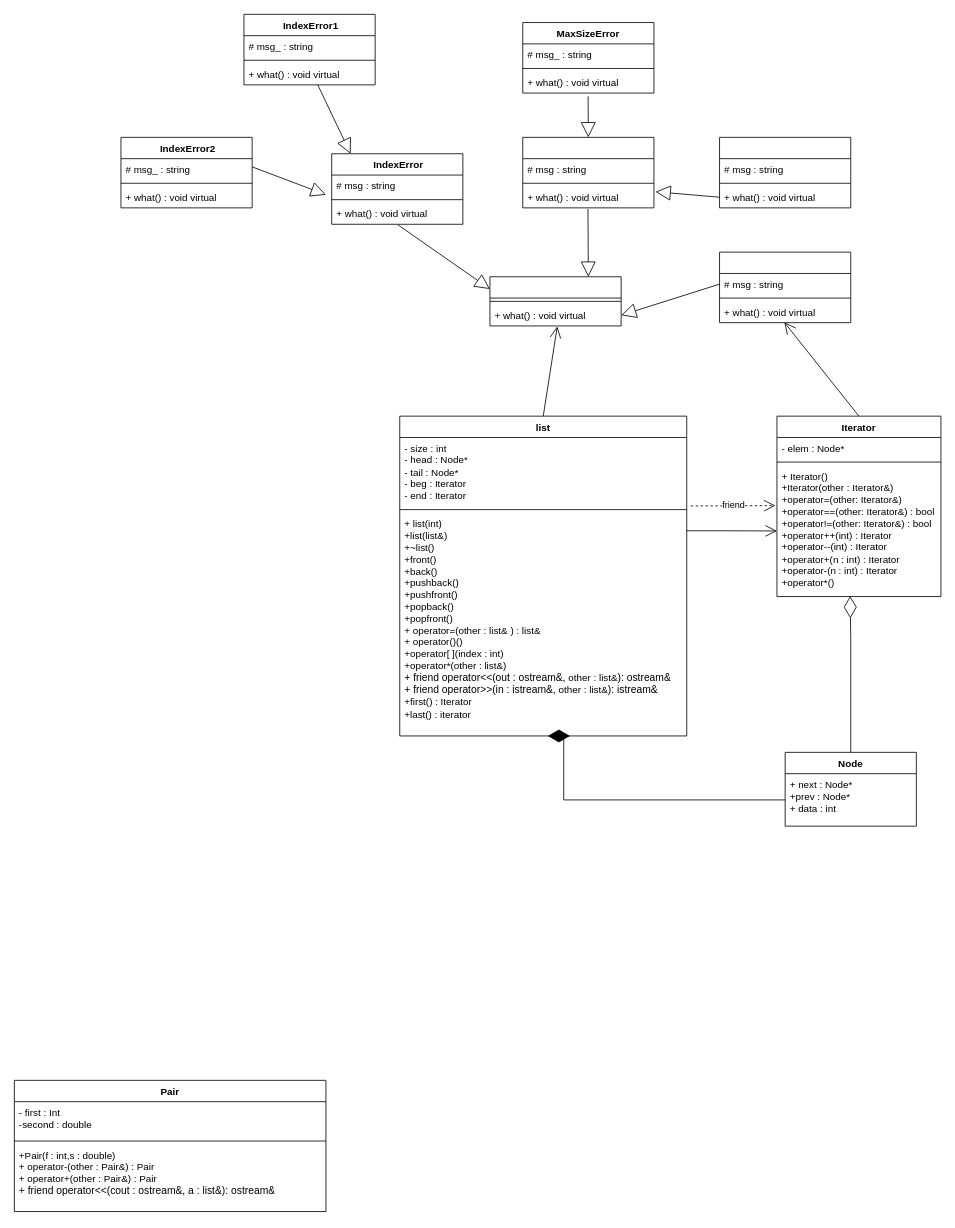
The diagram is 955 pixels wide and 1228 high, and some of its shapes have lost their labels. Each missing label, with the box of its shape:
EmptySizeError: (719, 137, 851, 208)
Error: (489, 276, 621, 326)
IteratorError: (719, 251, 851, 323)
SizeError: (522, 137, 654, 208)
